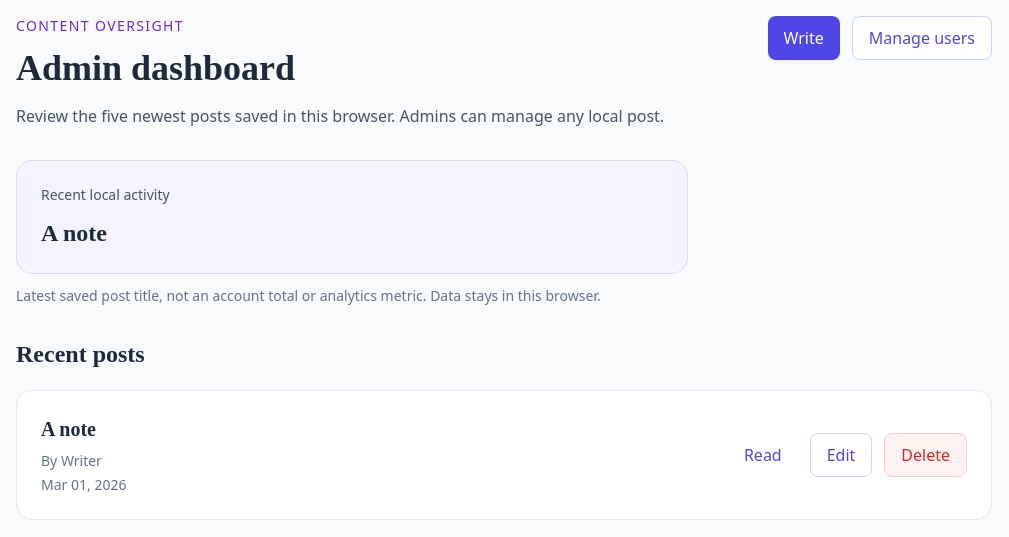
Test case: updates the empty state after successful last-post deletion
Click the button with aria-label "Delete A note" at coordinates (926, 455), box [884,433,967,477]
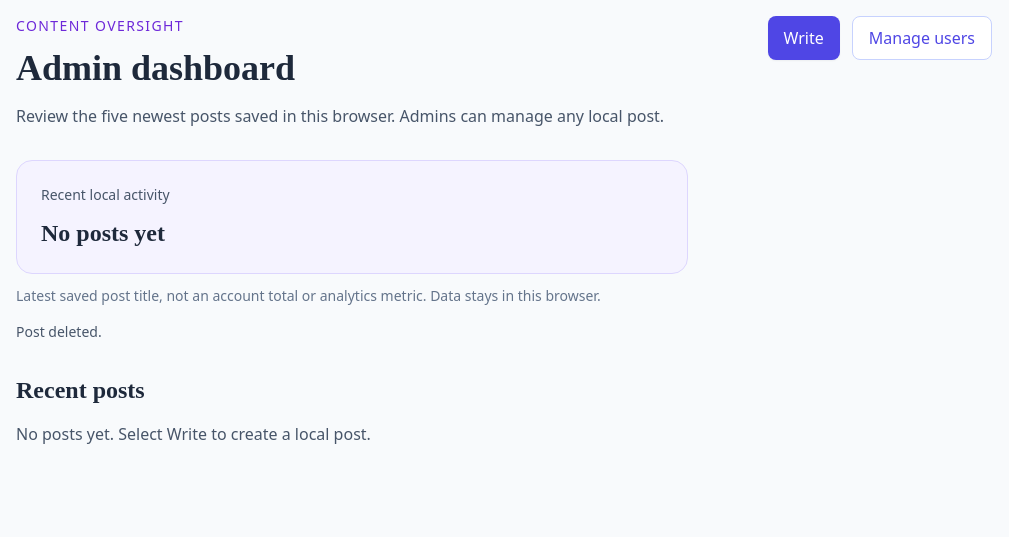
Result: the text "No posts yet" is shown at [41,220,165,246]
